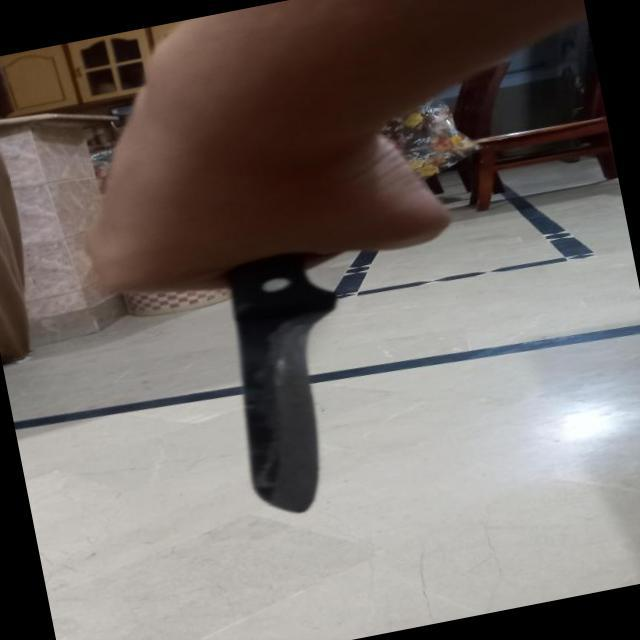Knife: (184, 240, 403, 530)
